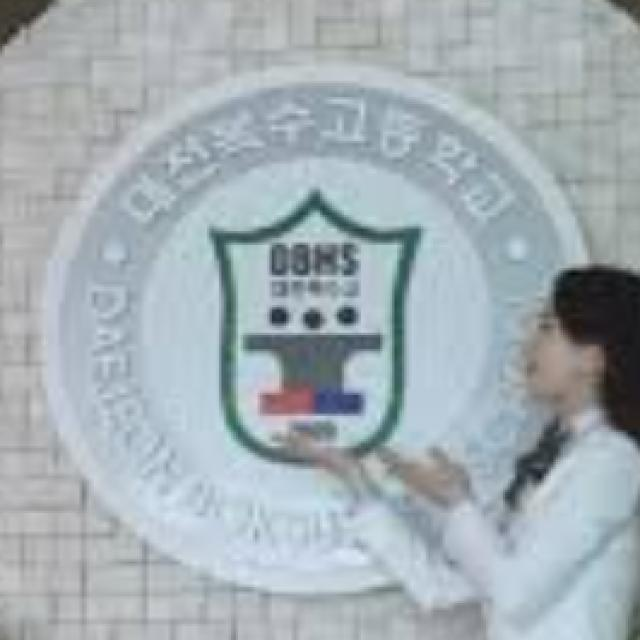logo: (32, 62, 610, 603)
